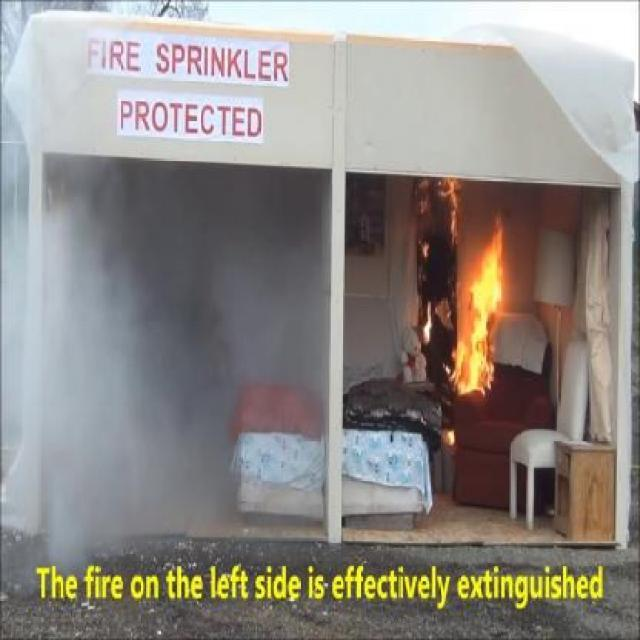fire: (441, 218, 512, 408)
smoke: (12, 126, 312, 562)
